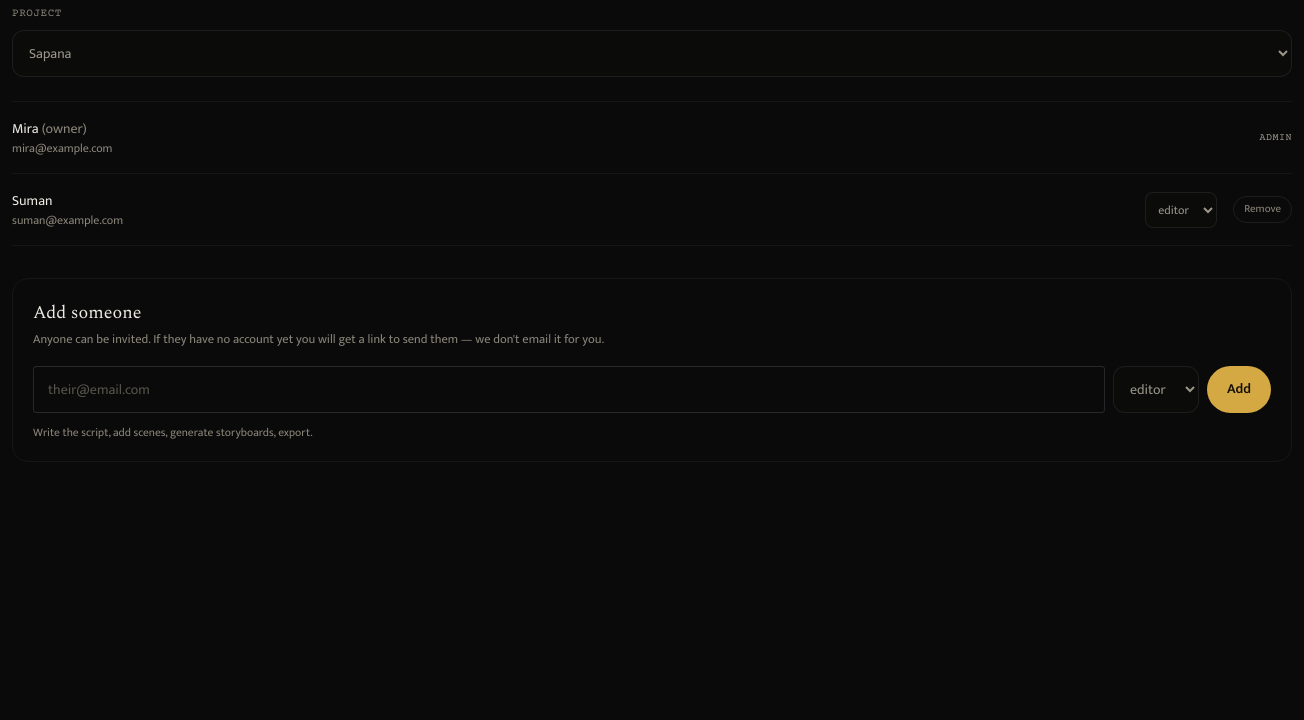
Test: adding someone › says read rather than work on for a viewer
Expected: the text "suman@example.com" is shown, [12, 210, 123, 230]
Type "new@example.com" into the field labelled "email" at (569, 389), box [33, 366, 1105, 413]
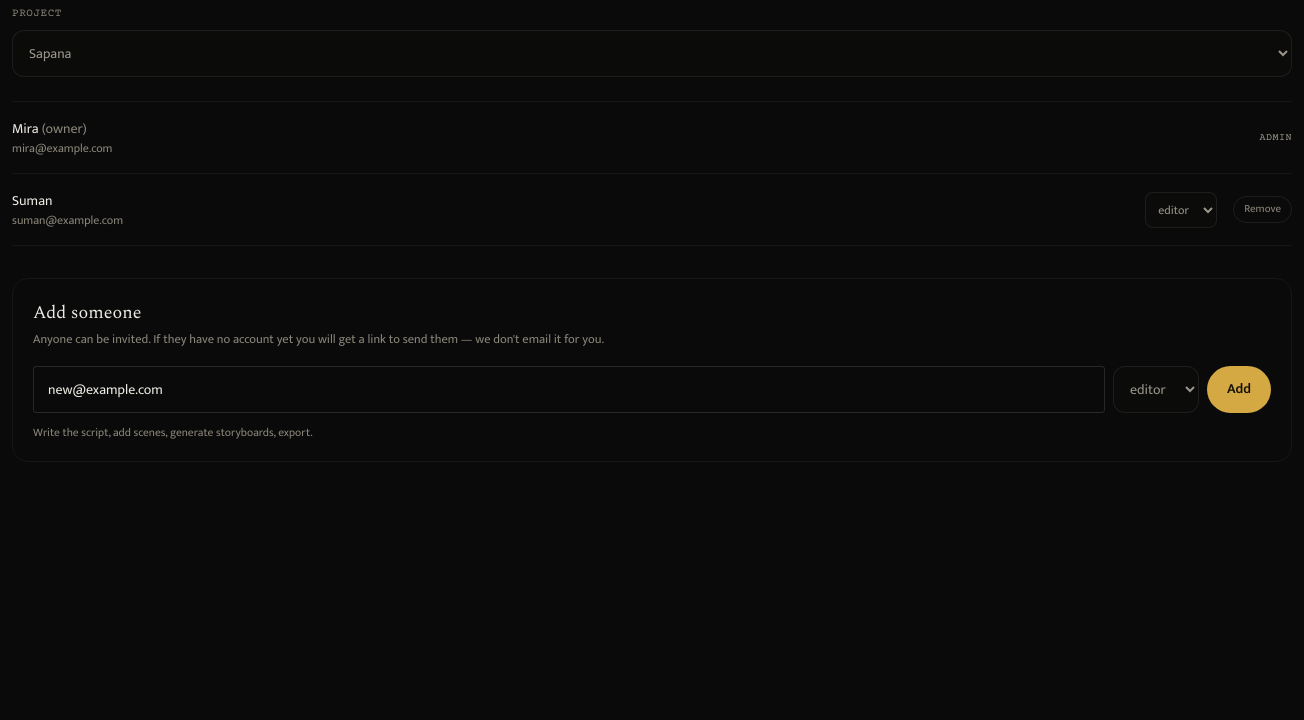
Select "viewer" in the dropdown named "Role" at (1156, 389), box [1113, 366, 1199, 413]
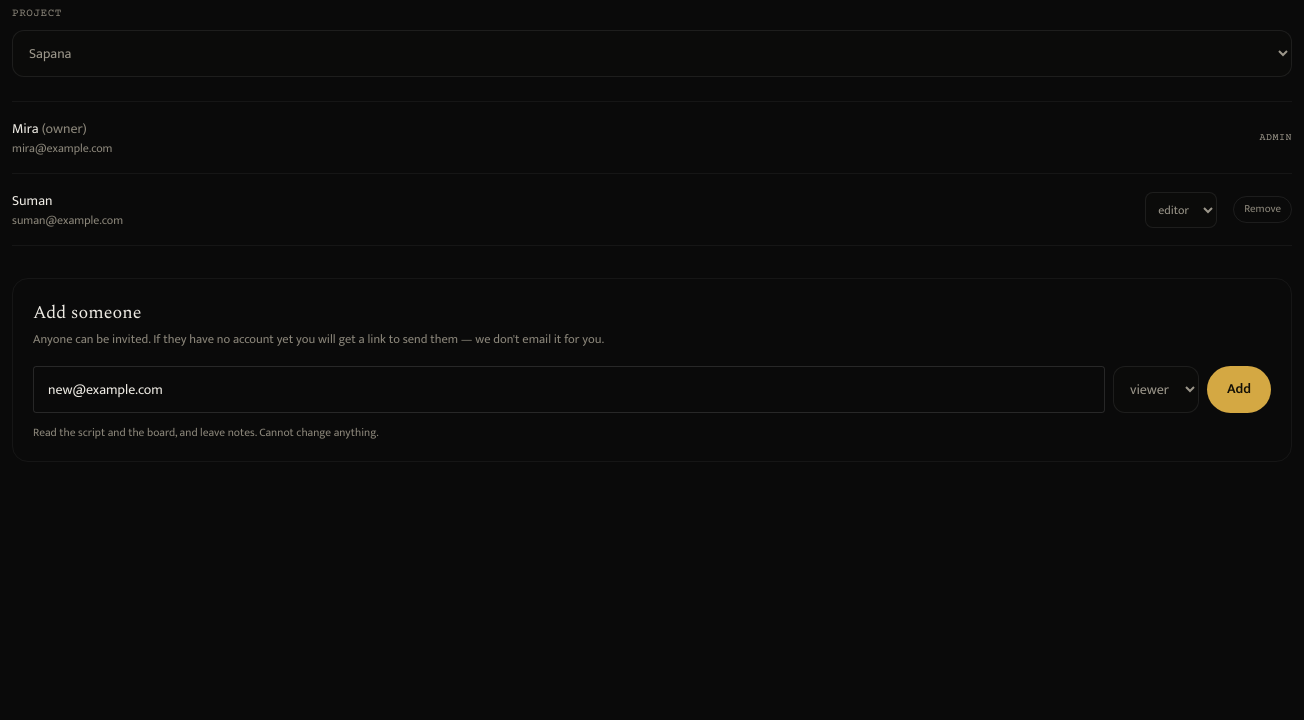
Click the button "Add" at (1239, 389), box [1207, 366, 1271, 413]
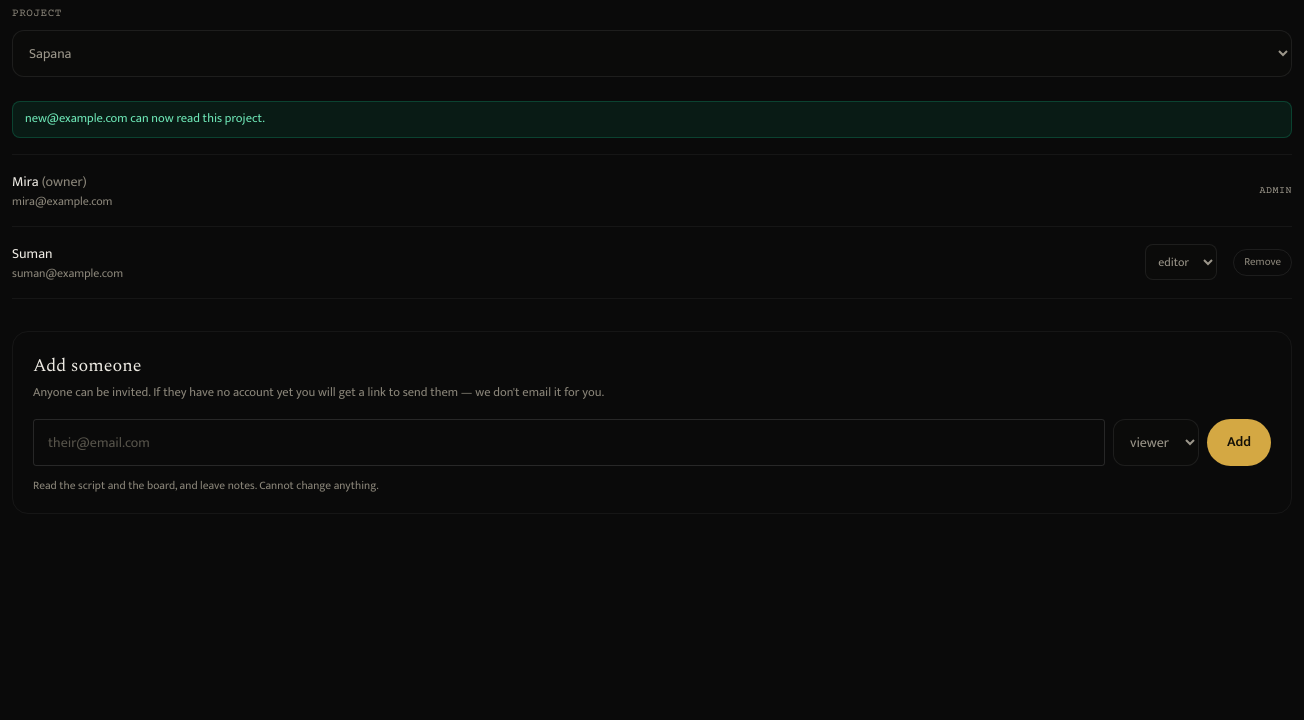
Now the text "new@example.com can now read this project." is shown, box [12, 101, 1292, 138]
